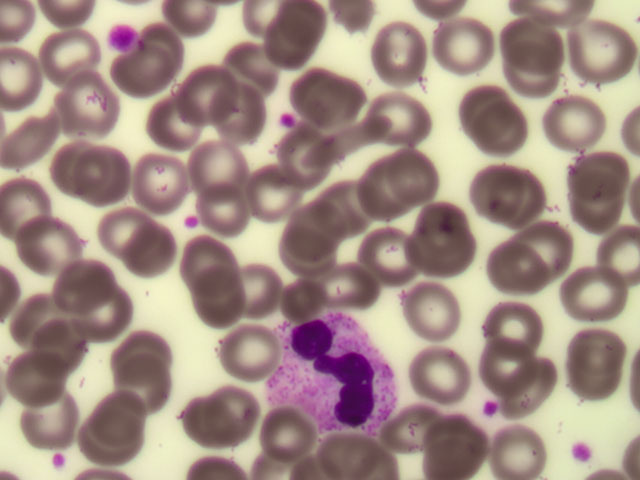Platelets: (104, 22, 140, 49), (565, 439, 602, 465), (175, 210, 200, 235), (483, 397, 503, 422), (50, 452, 76, 467), (280, 108, 295, 124)
RBC: (37, 22, 101, 85), (55, 79, 119, 142), (4, 110, 68, 173), (34, 137, 98, 200), (72, 147, 136, 210), (1, 172, 65, 235), (11, 211, 75, 274), (62, 248, 126, 311), (68, 288, 132, 351), (24, 320, 88, 383), (6, 285, 70, 348), (5, 345, 69, 408), (25, 386, 89, 449), (77, 411, 141, 474), (89, 367, 153, 430), (108, 353, 172, 416), (116, 323, 180, 386), (180, 275, 244, 338), (173, 234, 237, 297), (127, 228, 191, 291), (97, 204, 161, 267), (129, 158, 193, 221), (137, 93, 201, 156), (171, 65, 235, 128), (201, 78, 265, 141), (221, 43, 285, 106), (256, 4, 320, 67), (110, 43, 174, 106), (139, 18, 203, 81), (290, 61, 354, 124), (275, 125, 339, 188), (247, 161, 311, 224), (189, 177, 253, 240), (190, 131, 254, 194), (277, 222, 341, 285), (288, 192, 352, 255), (321, 169, 385, 232), (350, 158, 414, 221), (382, 146, 446, 209), (371, 84, 435, 147), (373, 23, 437, 86), (438, 8, 502, 71), (499, 12, 563, 75), (502, 41, 566, 104), (571, 17, 635, 80), (547, 86, 611, 149), (482, 104, 546, 167), (463, 79, 527, 142), (464, 161, 528, 224), (498, 167, 562, 230), (561, 181, 625, 244), (564, 147, 628, 210), (484, 245, 548, 308), (515, 218, 579, 281), (414, 227, 478, 290), (408, 193, 472, 256), (366, 226, 430, 289), (327, 249, 391, 312), (283, 265, 347, 328), (232, 261, 296, 324), (220, 322, 284, 385), (209, 371, 273, 434), (183, 383, 247, 446), (257, 405, 321, 468), (384, 394, 448, 457), (428, 415, 492, 478), (406, 339, 470, 402), (399, 282, 463, 345), (484, 290, 548, 353), (484, 331, 548, 394), (558, 352, 622, 415), (563, 320, 627, 383), (564, 262, 628, 325), (484, 417, 548, 480)
WBC: (278, 319, 398, 430)
